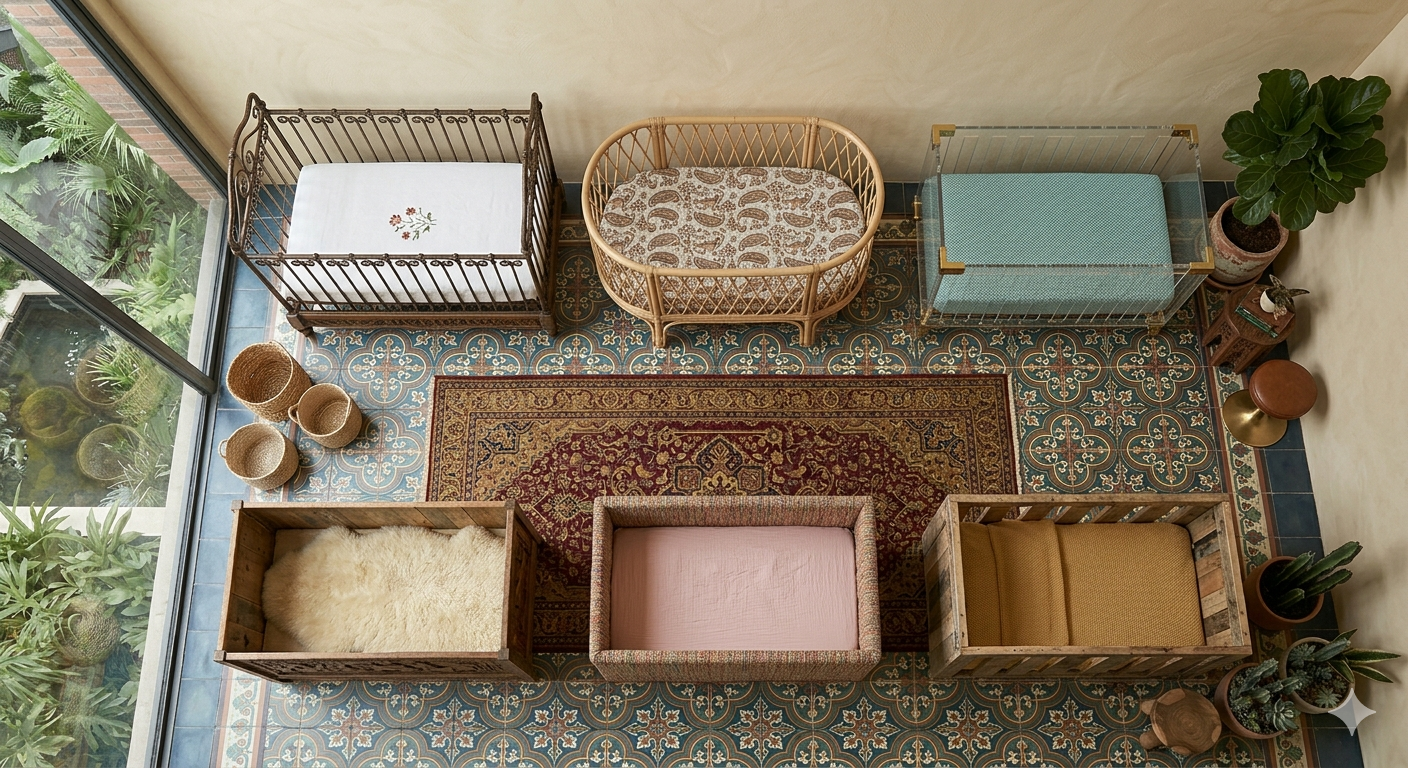crib: (228, 94, 560, 335), (582, 117, 882, 346), (921, 494, 1252, 679), (920, 125, 1212, 328), (589, 496, 880, 682), (307, 527, 503, 647)
